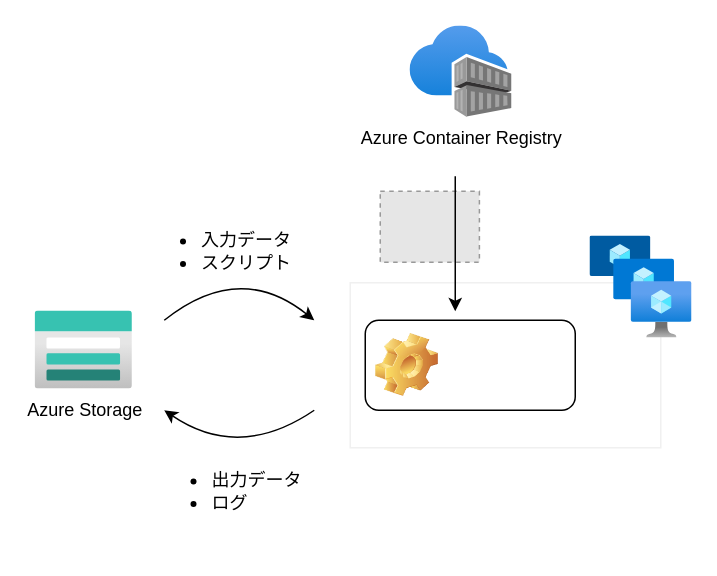
The diagram is 717 pixels wide and 576 high, and some of its shapes have lost their labels. Grey dashed boxes stand in for pictures. Each missing label, with the box of its shape:
Computing: (590, 236, 692, 338)
機械学習モデル: (364, 319, 575, 410)
